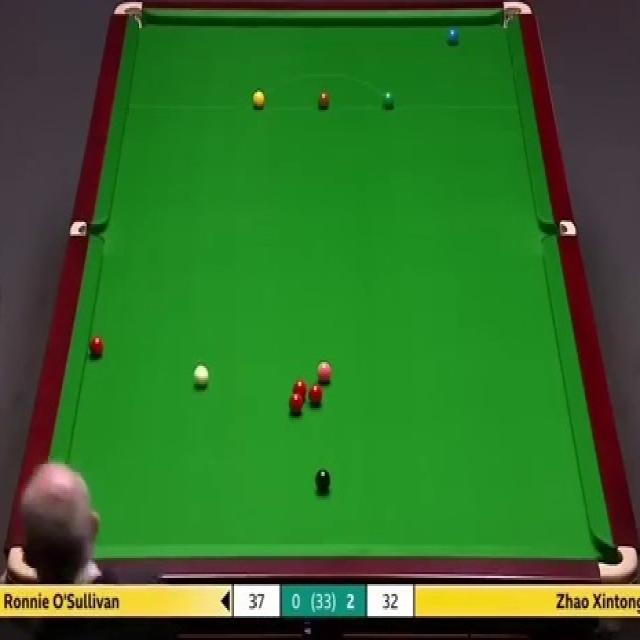pocket: (598, 545, 638, 579), (504, 1, 534, 30), (113, 0, 142, 27), (71, 219, 103, 240), (543, 220, 576, 240), (8, 550, 32, 576)
